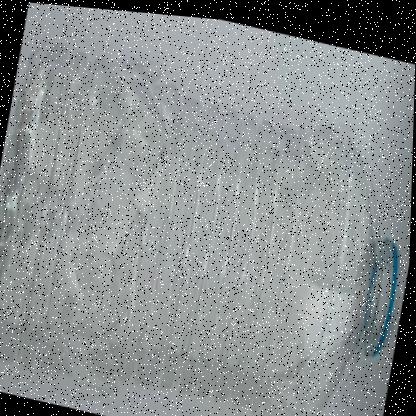open bottle: (259, 76, 415, 416)
